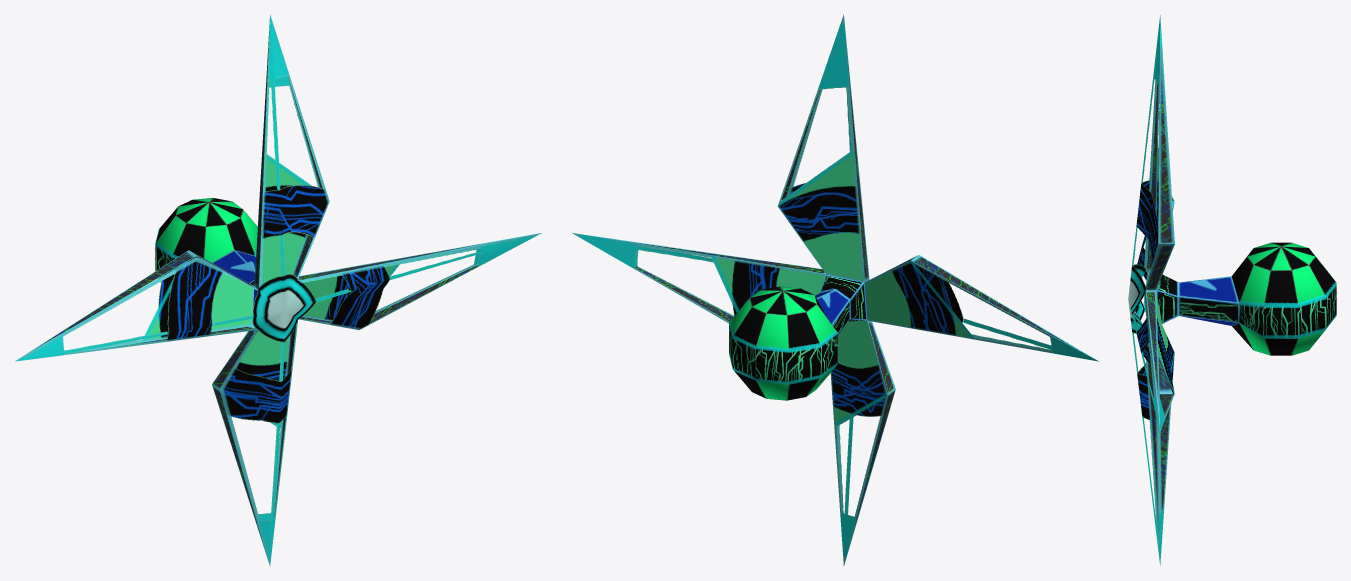
File: WindPlay (1).FBX
3 renders of one model, left to right at view 1: azimuth 30°, elevation 25°; view 2: azimuth 150°, elevation 25°; view 3: azimuth 270°, elevation 25°, orthographic.
Parts seen in each view (by area): view 1: puropera, born; view 2: puropera, born; view 3: born, puropera.
Part boxes in pixels (x1,y1,x2,y2): puropera: [15, 14, 541, 566]; born: [155, 198, 257, 324]; puropera: [572, 14, 1098, 565]; born: [729, 274, 867, 400]; born: [1156, 242, 1336, 355]; puropera: [1128, 15, 1174, 565].
Size of the model in its own units: 99.21 by 33.9 by 99.21.
1 material, 1 textured.
